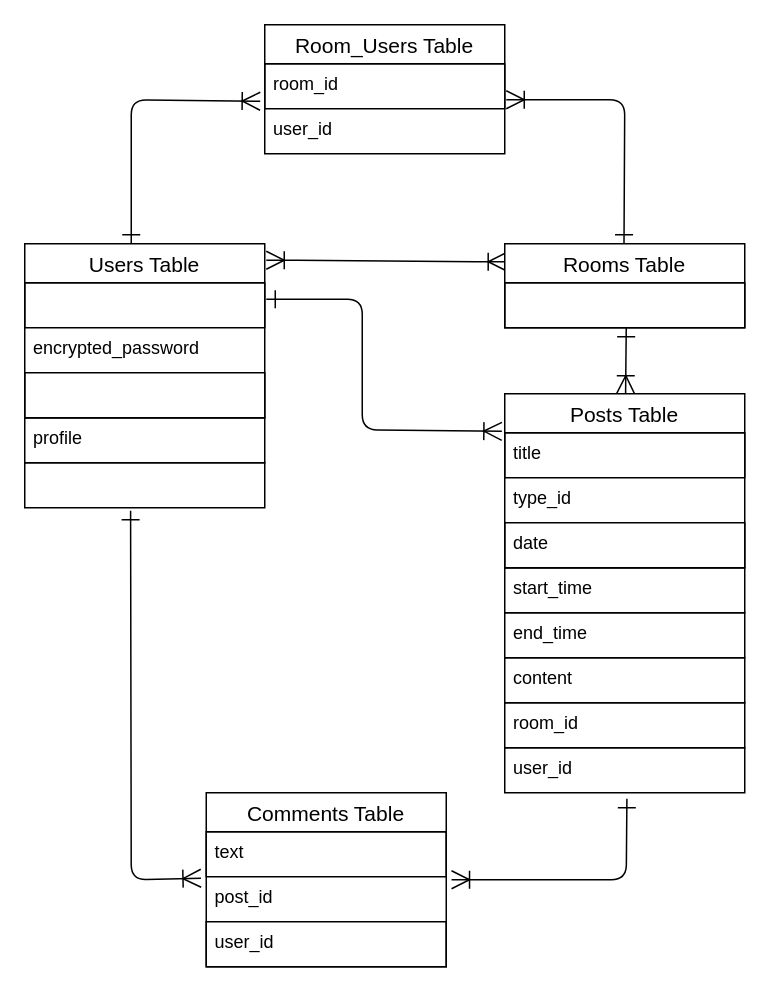
Some shapes in this 770 by 992 pixel diagram are drawn without their labels. The shapes that lost their labels are listed below. From the top down, each one's centre as x and y in pixels, then its label:
At (x=144, y=304): "email".
At (x=624, y=304): "name".
At (x=144, y=394): "nickname".
At (x=144, y=484): "birthday".
